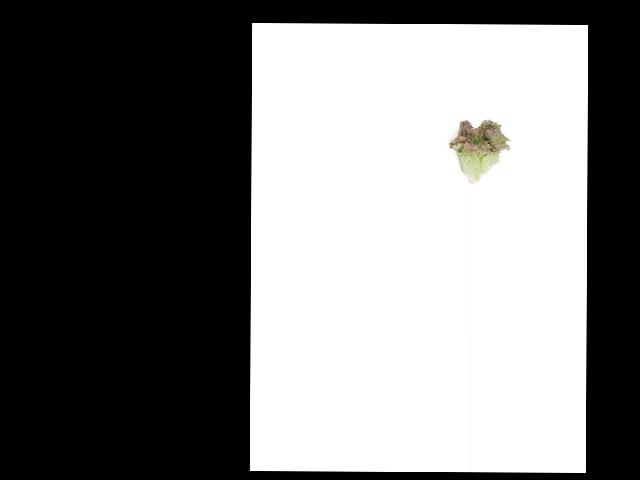lettuce: (443, 111, 513, 185)
